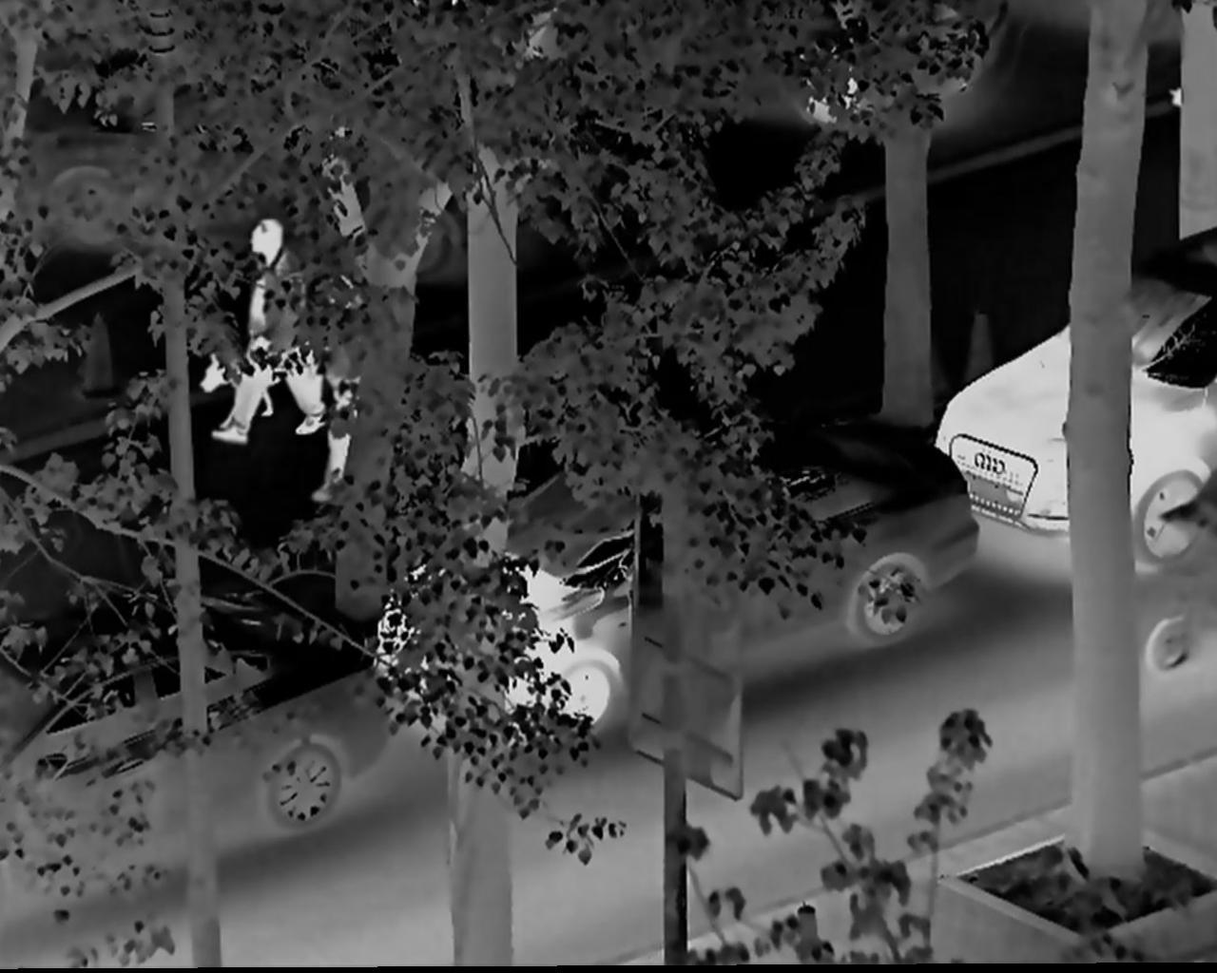person: (206, 211, 332, 459)
